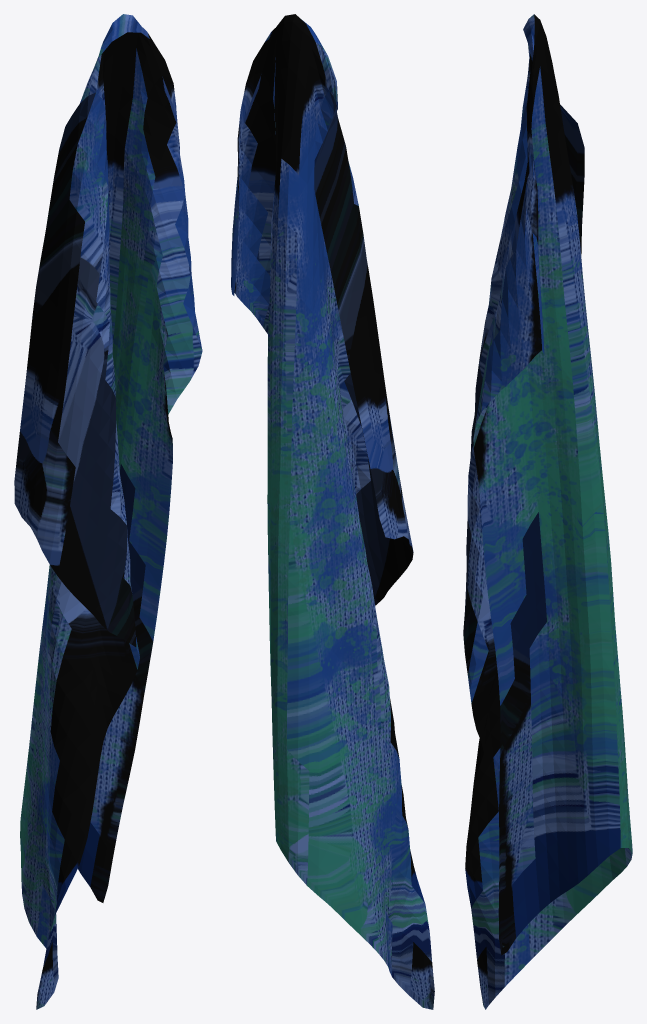
File: chusta3.obj
The picture shows the model from 3 angles, left to right: view 1: azimuth 30°, elevation 25°; view 2: azimuth 150°, elevation 25°; view 3: azimuth 270°, elevation 25°; orthographic projection. The views are drawn at different scales.
Parts seen in each view (by area): view 1: Plane.020_Plane.022; view 2: Plane.020_Plane.022; view 3: Plane.020_Plane.022.
Boxes of the visible parts, left/top/right/bottom form: Plane.020_Plane.022: left=14, top=14, right=202, bottom=1009; Plane.020_Plane.022: left=231, top=14, right=434, bottom=1009; Plane.020_Plane.022: left=463, top=14, right=632, bottom=1009.
Size of the model in its own units: 0.1263 by 0.6733 by 0.0984.
Materials: 1 (1 with a texture image).
